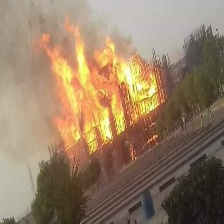fire: (42, 36, 170, 151)
smoke: (1, 1, 66, 149)
